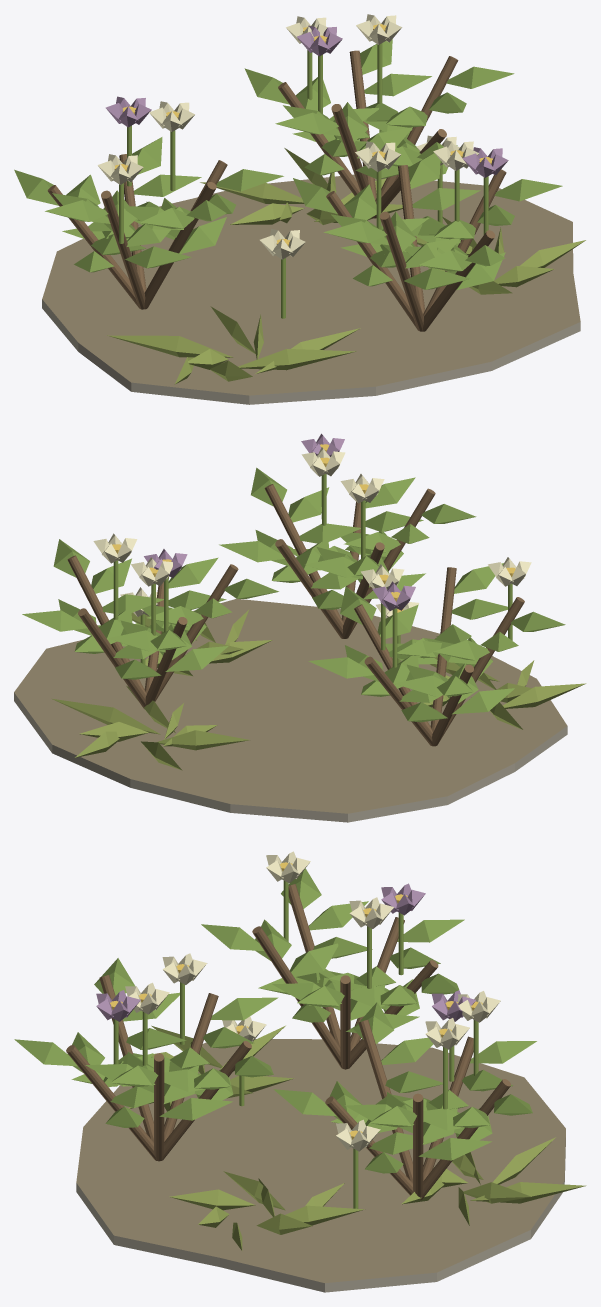
Rendered from Shrub_Cluster_Flourishing.glb.
3 renders of one model, top to bottom at view 1: azimuth 30°, elevation 25°; view 2: azimuth 150°, elevation 25°; view 3: azimuth 270°, elevation 25°, orthographic. The views are drawn at different scales.
Parts seen in each view (by area): view 1: Growth, Support; view 2: Support, Growth; view 3: Growth, Support.
Part boxes in pixels (x1,y1,x2,y2): Growth: [14, 14, 585, 384]; Support: [42, 174, 580, 404]; Support: [14, 599, 567, 822]; Growth: [22, 433, 586, 770]; Growth: [14, 851, 586, 1250]; Support: [76, 1039, 565, 1292].
Bounding box in the file's own units: 3.03 × 1.08 × 2.76.
